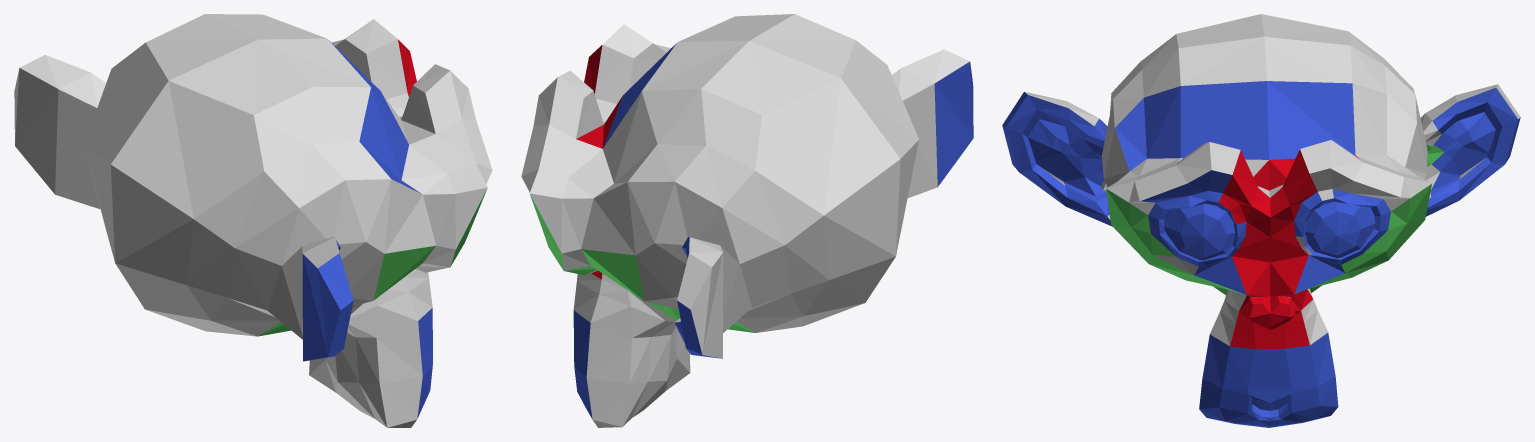
Rendered from monkey_color.dae.
3 views of the same model, side by side, from view 1: azimuth 30°, elevation 25°; view 2: azimuth 150°, elevation 25°; view 3: azimuth 270°, elevation 25° (orthographic). The views are drawn at different scales.
Parts seen in each view (by area): view 1: Suzanne; view 2: Suzanne; view 3: Suzanne.
Part boxes in pixels (x1=…): Suzanne: x1=14, y1=14, x2=492, y2=427; Suzanne: x1=521, y1=14, x2=973, y2=427; Suzanne: x1=1002, y1=14, x2=1520, y2=427.
Size of the model in its own units: 1.71 by 2.73 by 1.97.
